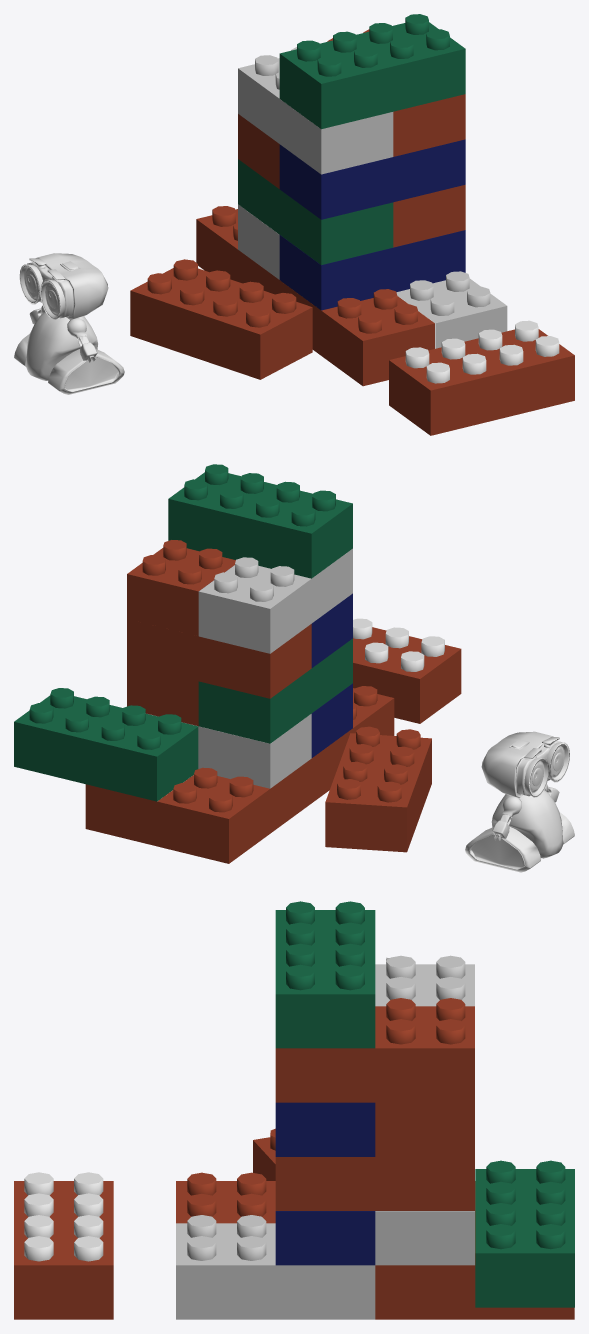
File: bloque_lego.fbx
3 views of the same model, one above another, from view 1: azimuth 30°, elevation 25°; view 2: azimuth 150°, elevation 25°; view 3: azimuth 270°, elevation 25° (orthographic). The views are drawn at different scales.
Visible parts, largest first — view 1: piezaModelo.008, piezaModelo, piezaModelo.015, robot, piezaModelo.005, piezaModelo.001, piezaModelo.006, piezaModelo.002, piezaModelo.009, piezaModelo.003, piezaModelo.007, piezaModelo.010 (+13 smaller); view 2: piezaModelo.013, piezaModelo.008, robot, piezaModelo.006, piezaModelo.011, piezaModelo.004, piezaModelo.015, piezaModelo.002, piezaModelo, piezaModelo.014, piezaModelo.007, piezaModelo.012 (+14 smaller); view 3: piezaModelo.010, piezaModelo.007, piezaModelo.003, piezaModelo.008, piezaModelo.013, piezaModelo, piezaModelo.012, piezaModelo.001, piezaModelo.005, piezaModelo.004, piezaModelo.014, Cilindros2 (+12 smaller).
Part boxes in pixels (x1,y1,x2,y2): piezaModelo.008: [279, 22, 465, 129]; piezaModelo: [389, 329, 574, 435]; piezaModelo.015: [130, 268, 312, 379]; robot: [14, 253, 124, 394]; piezaModelo.005: [279, 139, 465, 219]; piezaModelo.001: [279, 230, 465, 310]; piezaModelo.006: [238, 58, 393, 174]; piezaModelo.002: [238, 159, 393, 264]; piezaModelo.009: [279, 280, 434, 386]; piezaModelo.003: [393, 184, 465, 247]; piezaModelo.007: [393, 94, 465, 156]; piezaModelo.010: [396, 278, 507, 348]; piezaModelo.013: [14, 695, 198, 801]; piezaModelo.008: [168, 472, 352, 578]; robot: [465, 731, 574, 872]; piezaModelo.006: [198, 548, 352, 653]; piezaModelo.011: [157, 759, 311, 863]; piezaModelo.004: [127, 619, 311, 698]; piezaModelo.015: [325, 733, 431, 852]; piezaModelo.002: [198, 638, 352, 743]; piezaModelo: [353, 627, 461, 723]; piezaModelo.014: [148, 714, 311, 788]; piezaModelo.007: [127, 548, 235, 636]; piezaModelo.012: [85, 779, 187, 846]; piezaModelo.010: [176, 1223, 375, 1319]; piezaModelo.007: [275, 1006, 474, 1102]; piezaModelo.003: [275, 1157, 474, 1210]; piezaModelo.008: [275, 910, 375, 1048]; piezaModelo.013: [475, 1169, 574, 1307]; piezaModelo: [14, 1181, 113, 1319]; piezaModelo.012: [375, 1223, 574, 1319]; piezaModelo.001: [275, 1211, 375, 1265]; piezaModelo.005: [275, 1102, 375, 1156]; piezaModelo.004: [375, 1102, 474, 1156]; piezaModelo.014: [375, 1211, 474, 1265]; Cilindros2: [24, 1215, 103, 1261].
Size of the model in its own units: 484 by 422 by 281.
